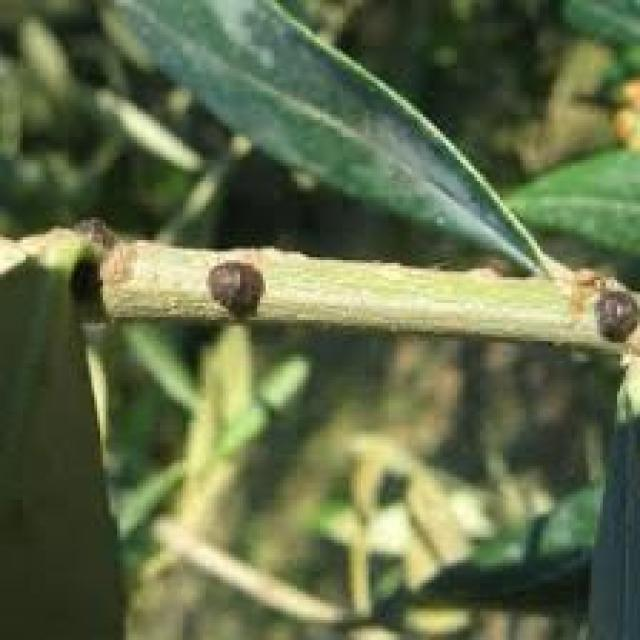Black Scale: (209, 260, 269, 317), (592, 286, 637, 343)
